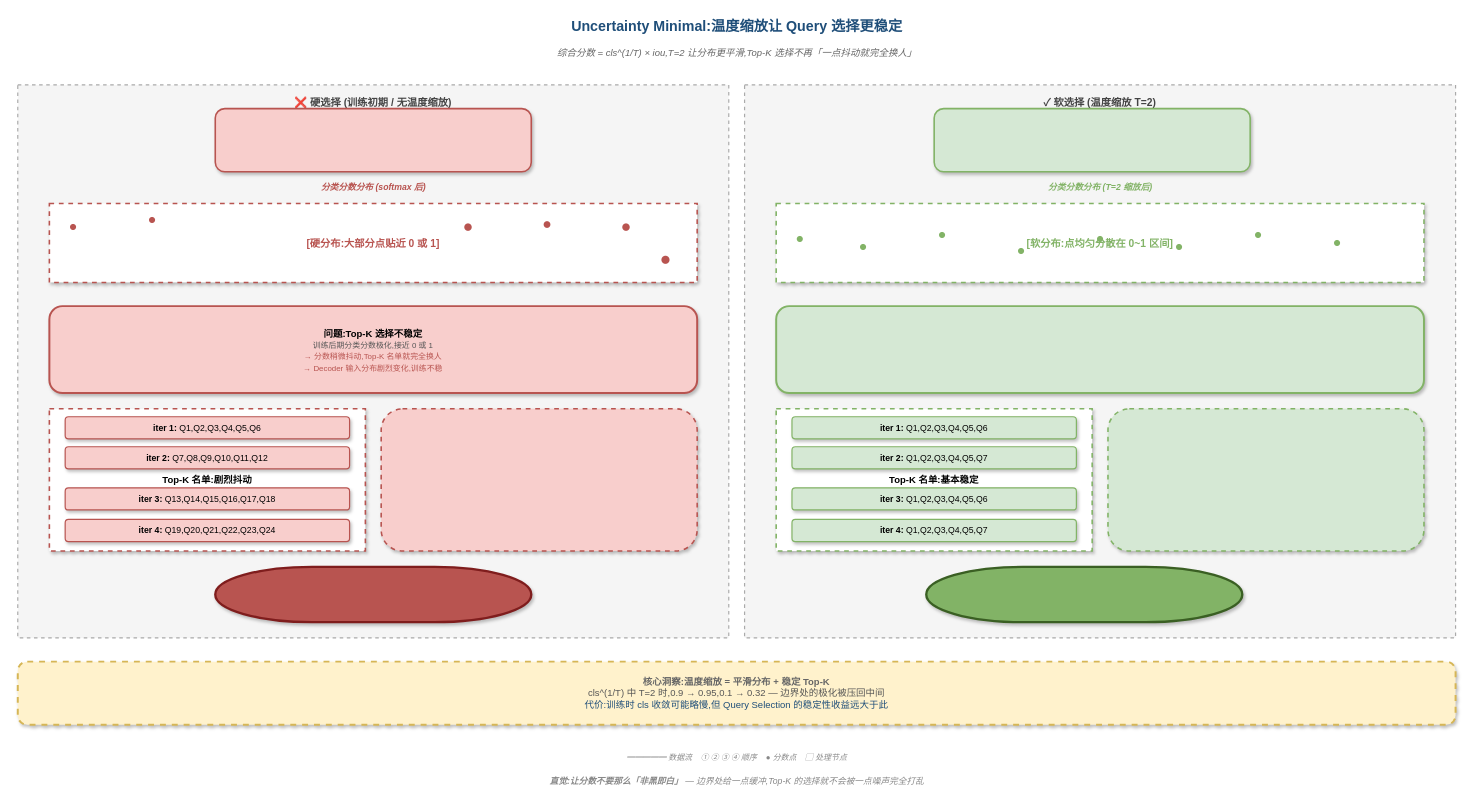
This 1475x803 diagram has some shape labels left out. Each missing label, with the centre of its shape:
Decoder 输入分布:剧烈变化 每次前向,Query 集合都大变: pixel 539 480
Decoder 输入分布:基本稳定 前向间只微调,主干不变: pixel 1266 480
✓ 训练稳定,收敛更快: pixel 1085 595
❌ 训练不稳定,收敛慢: pixel 374 595
好处:Top-K 选择更稳定 cls^(1/T) 让分数分布更平滑 → 分数抖动只影响边界处,名单相对稳定 → Decoder 输入分布连续,训练平滑: pixel 1100 350
综合分数 (硬) score = cls × iou cls 已经 softmax 后接近 0/1,极硬: pixel 373 141
综合分数 (软) score = cls^(1/T) × iou, T=2 温度缩放让分布「软化」: pixel 1092 141
